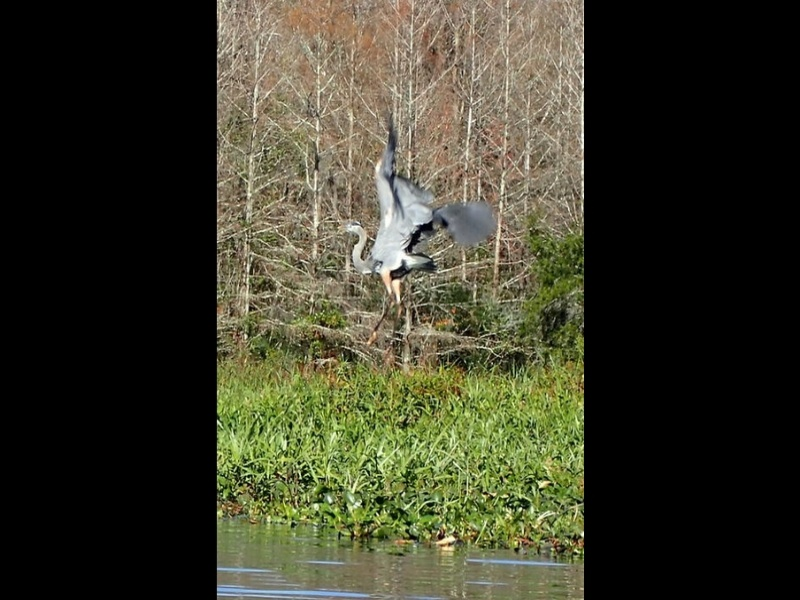heron: (328, 130, 489, 351)
